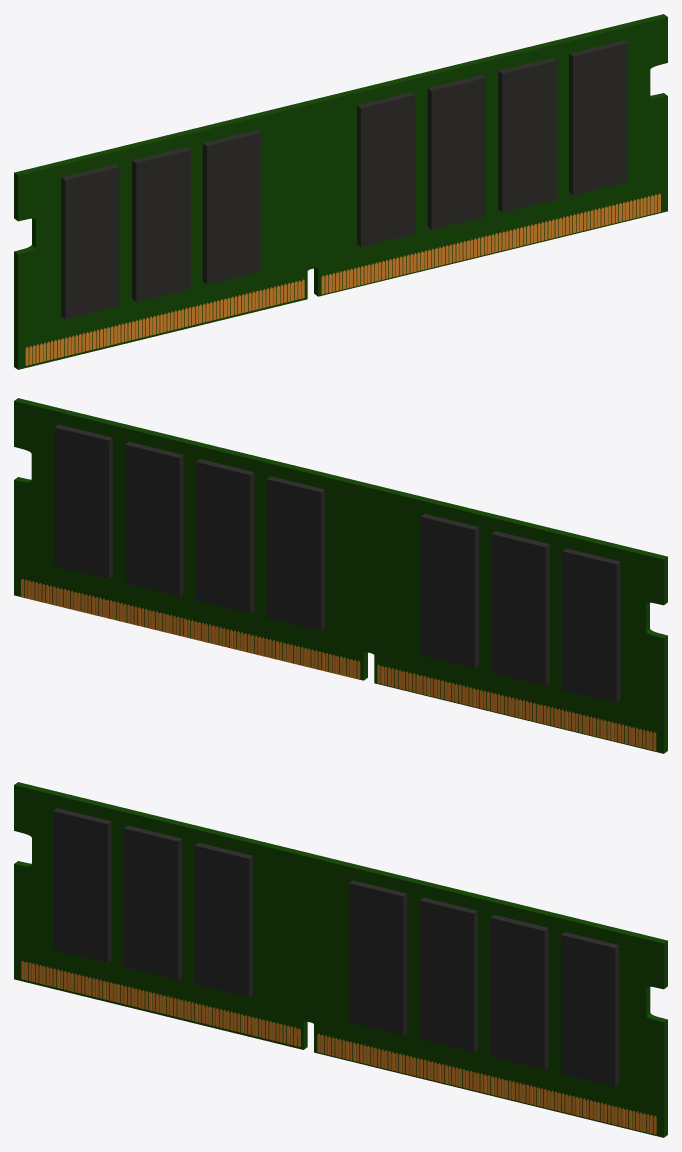
File: RAM.fbx
3 renders of one model, top to bottom at view 1: azimuth 30°, elevation 25°; view 2: azimuth 150°, elevation 25°; view 3: azimuth 330°, elevation 25°, orthographic.
Visible parts, largest first — view 1: Cube, Cube.001, Cube.002, Plane, Plane.001; view 2: Cube, Cube.001, Cube.002, Plane, Plane.001; view 3: Cube, Cube.001, Cube.002, Plane, Plane.001.
Boxes of the visible parts, left/top/right/bottom form: Cube: left=14, top=14, right=667, bottom=369; Cube.001: left=357, top=40, right=627, bottom=246; Cube.002: left=61, top=130, right=261, bottom=319; Plane: left=321, top=193, right=660, bottom=294; Plane.001: left=25, top=279, right=304, bottom=365; Cube: left=14, top=398, right=667, bottom=753; Cube.001: left=54, top=424, right=324, bottom=630; Cube.002: left=420, top=514, right=620, bottom=703; Plane: left=21, top=578, right=360, bottom=679; Plane.001: left=377, top=664, right=656, bottom=750; Cube: left=14, top=782, right=667, bottom=1137; Cube.001: left=349, top=880, right=619, bottom=1086; Cube.002: left=53, top=808, right=252, bottom=997; Plane: left=317, top=1034, right=656, bottom=1134; Plane.001: left=21, top=961, right=300, bottom=1046.
Size of the model in its own units: 84.42 by 24.13 by 2.76.
